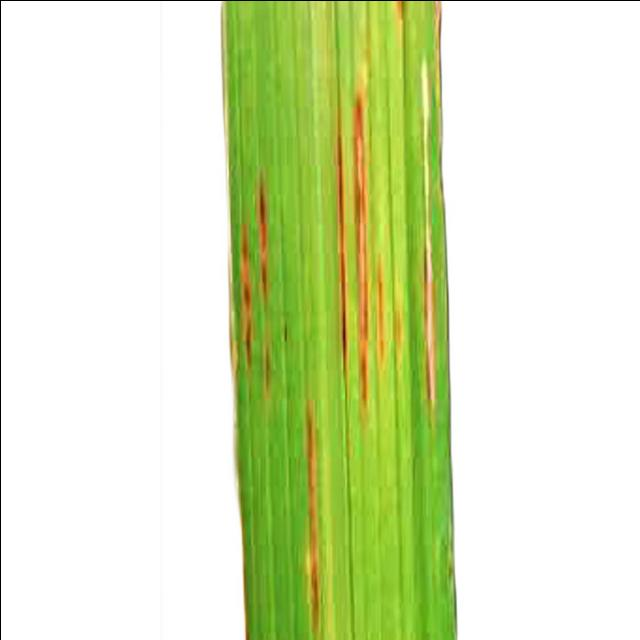Narrow brown: (174, 0, 512, 640)
